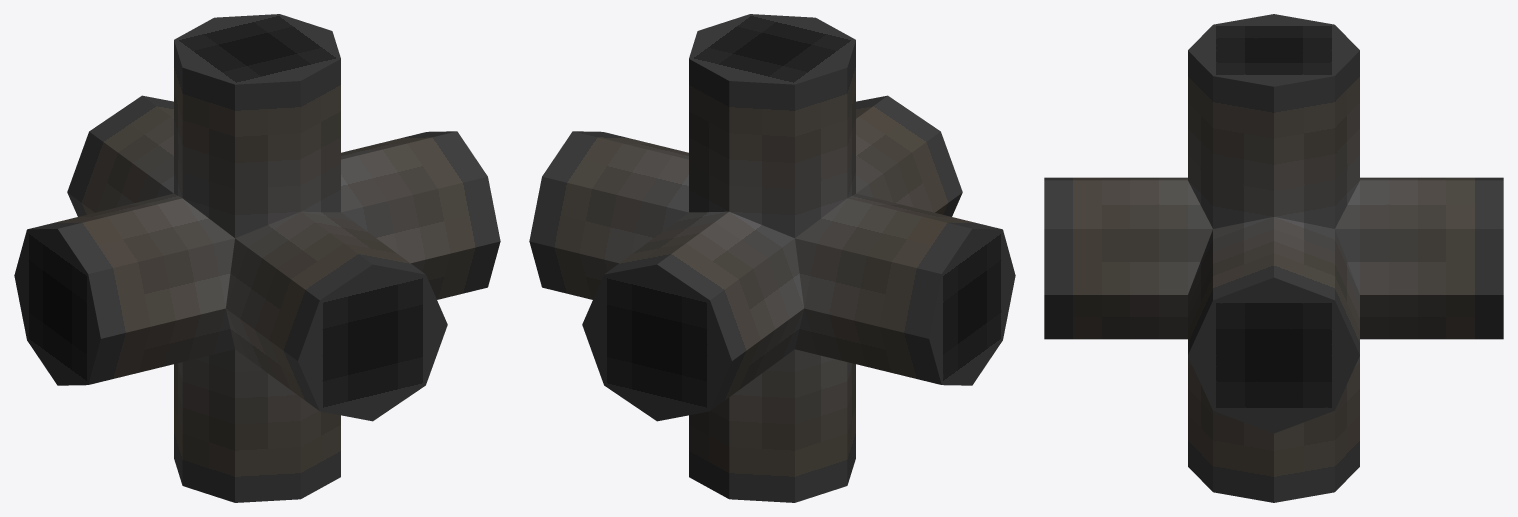
The model's file is steel_pipe_inventory.obj.
3 renders of one model, left to right at view 1: azimuth 30°, elevation 25°; view 2: azimuth 150°, elevation 25°; view 3: azimuth 270°, elevation 25°, orthographic.
Parts seen in each view (by area): view 1: nZ, nX, pY, nY, pX, pZ; view 2: pZ, nX, pY, nY, pX, nZ; view 3: pY, pX, nZ, pZ, nY.
Boxes of the visible parts, x1=… form: nZ: x1=226, y1=211, x2=447, y2=421; nX: x1=14, y1=193, x2=234, y2=385; pY: x1=174, y1=14, x2=340, y2=238; nY: x1=174, y1=349, x2=340, y2=502; pX: x1=341, y1=131, x2=500, y2=299; pZ: x1=67, y1=95, x2=173, y2=216; pZ: x1=582, y1=211, x2=803, y2=421; nX: x1=795, y1=193, x2=1015, y2=385; pY: x1=689, y1=14, x2=855, y2=238; nY: x1=689, y1=349, x2=855, y2=502; pX: x1=529, y1=131, x2=688, y2=299; nZ: x1=856, y1=95, x2=962, y2=216; pY: x1=1188, y1=14, x2=1359, y2=228; pX: x1=1188, y1=217, x2=1359, y2=433; nZ: x1=1044, y1=177, x2=1212, y2=339; pZ: x1=1335, y1=177, x2=1503, y2=339; nY: x1=1188, y1=356, x2=1359, y2=502.
Size of the model in its own units: 1 by 1 by 1.
